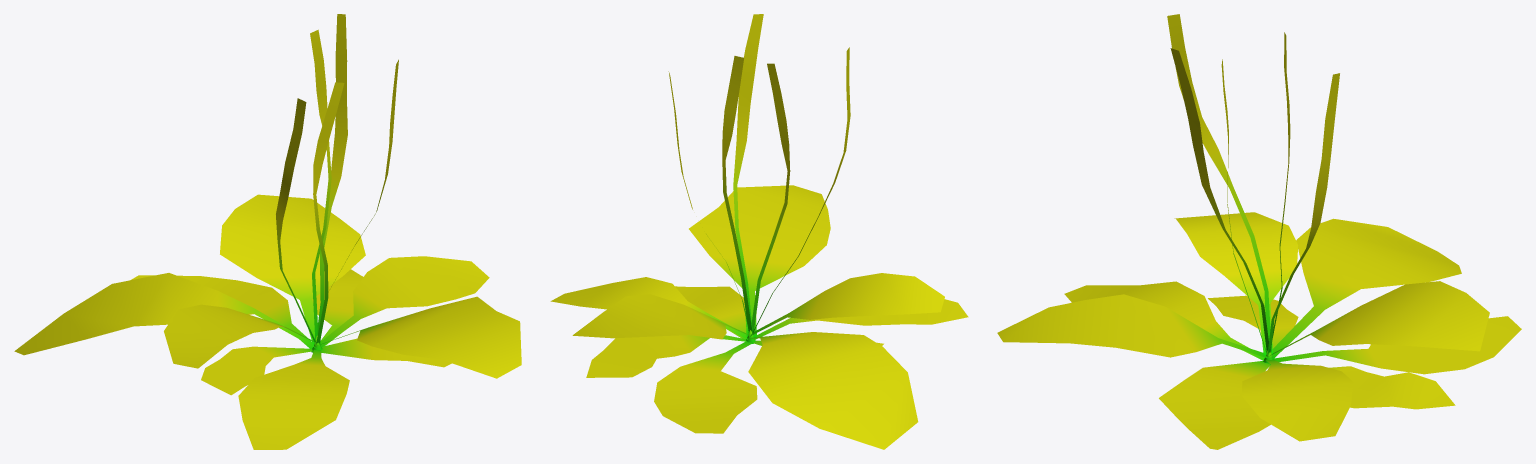
File: Broadleaf Plantain_LOD1_Var2_sfhjc.fbx
3 views of the same model, side by side, from view 1: azimuth 30°, elevation 25°; view 2: azimuth 150°, elevation 25°; view 3: azimuth 270°, elevation 25° (orthographic). The views are drawn at different scales.
Visible parts, largest first — view 1: _4c9b_Var2_LOD1; view 2: _4c9b_Var2_LOD1; view 3: _4c9b_Var2_LOD1.
Boxes of the visible parts, x1,y1,x2,y2 form: _4c9b_Var2_LOD1: (14,14,521,449); _4c9b_Var2_LOD1: (550,14,968,449); _4c9b_Var2_LOD1: (997,14,1521,449).
Bounding box in the file's own units: 37.68 × 26.95 × 38.06.
